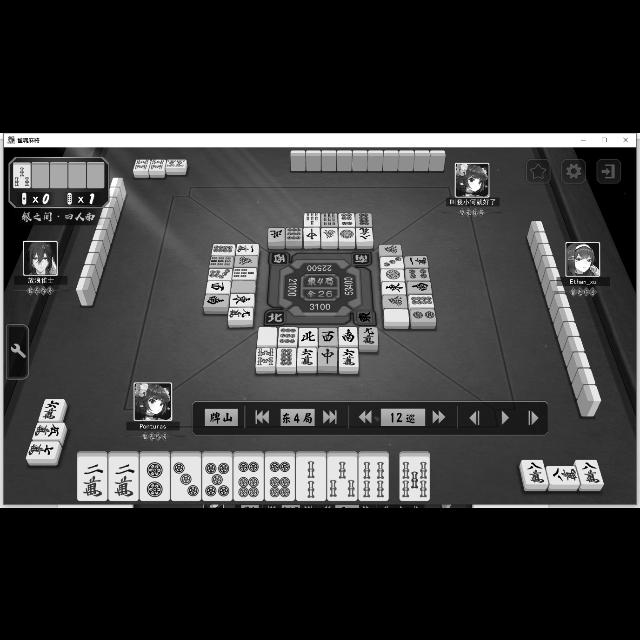1m: (404, 255, 430, 267), (235, 242, 259, 254)
1p: (380, 269, 406, 281), (338, 227, 354, 241)
2m: (108, 456, 138, 500), (77, 456, 106, 500)
2p: (140, 456, 170, 500), (409, 309, 436, 321)
2s: (296, 456, 326, 499)
3p: (171, 456, 201, 499), (381, 256, 404, 268)
3s: (328, 456, 357, 499), (14, 164, 31, 188)
4p: (406, 268, 430, 280)
4s: (359, 456, 387, 499)
5m: (32, 422, 68, 440)
5p: (202, 456, 232, 500)
5s: (399, 456, 429, 500)
6m: (38, 398, 66, 420), (298, 348, 316, 367), (339, 348, 358, 364)
6p: (233, 456, 263, 500), (266, 456, 294, 499), (339, 212, 355, 226)
7m: (25, 441, 59, 459)
7p: (208, 268, 232, 280)
7s: (232, 267, 255, 279), (304, 212, 320, 226)
8m: (576, 460, 604, 484), (522, 460, 548, 484), (547, 466, 581, 484), (356, 226, 372, 242), (268, 228, 284, 240)
8p: (276, 347, 296, 367), (408, 294, 434, 306), (211, 242, 235, 254), (356, 211, 372, 225)
8s: (255, 346, 275, 366), (149, 158, 165, 170), (134, 158, 150, 170), (164, 159, 186, 167)
9m: (229, 306, 253, 320), (359, 327, 377, 345)
9p: (278, 326, 296, 346), (286, 226, 302, 242)
9s: (210, 255, 232, 267), (322, 212, 338, 226)
chun: (317, 346, 337, 366), (303, 227, 319, 241)
haku: (258, 326, 276, 346), (384, 308, 408, 322), (230, 280, 256, 292)
hatsu: (383, 296, 407, 308), (235, 254, 258, 266), (378, 243, 402, 254), (320, 227, 338, 241)
nan: (340, 326, 358, 344), (408, 280, 430, 294), (203, 294, 227, 306)
pe: (298, 327, 318, 345)
sha: (318, 326, 338, 346), (204, 280, 230, 294)
tou: (382, 280, 406, 294), (228, 293, 254, 305)
